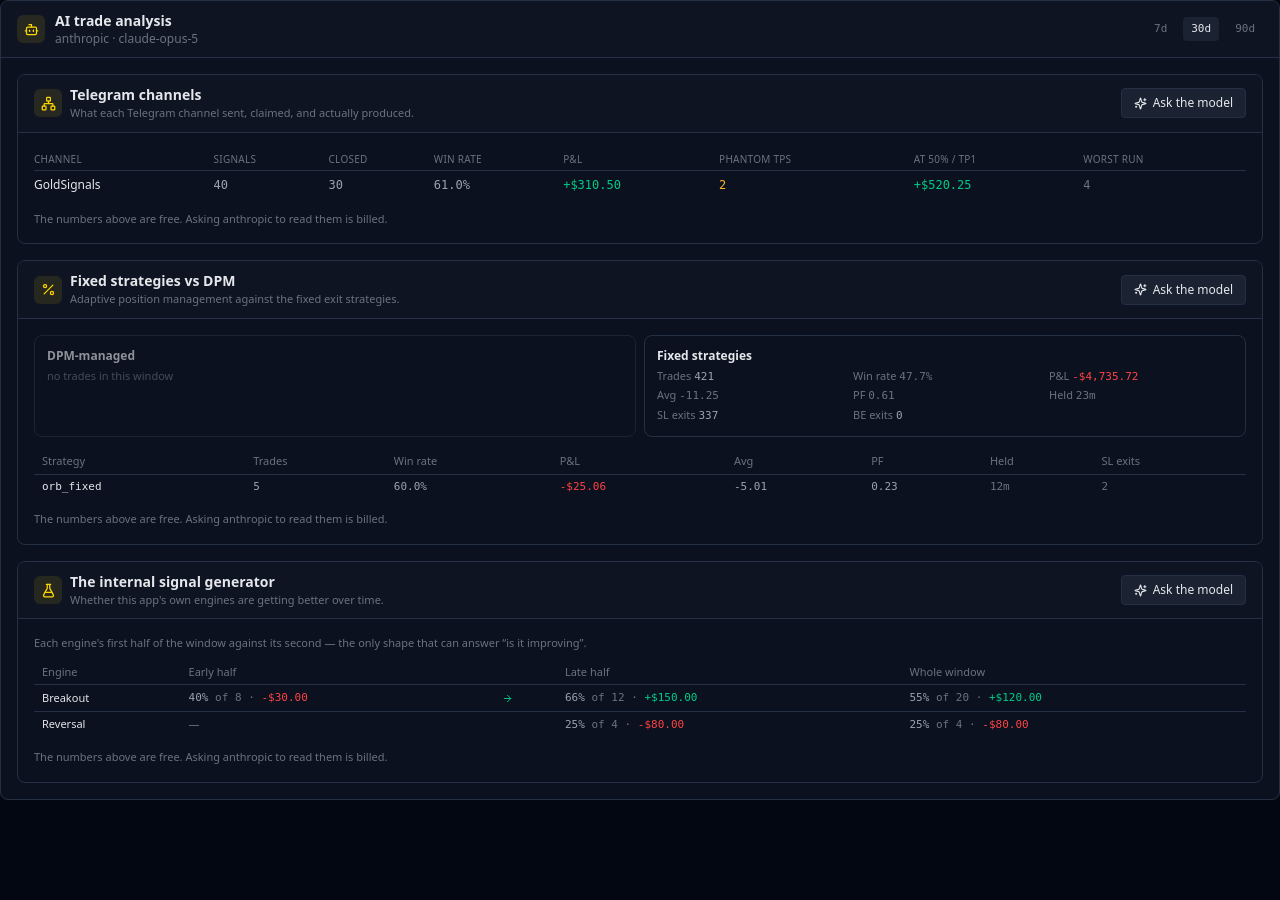
Scenario: what costs money › puts the answer under the section that was asked
Expected: the text "GoldSignals" is shown, [34,170,214,199]
Click the button "Ask the model" in the row of "Fixed strategies vs DPM" at x=1183, y=290, box [1121,275,1246,305]
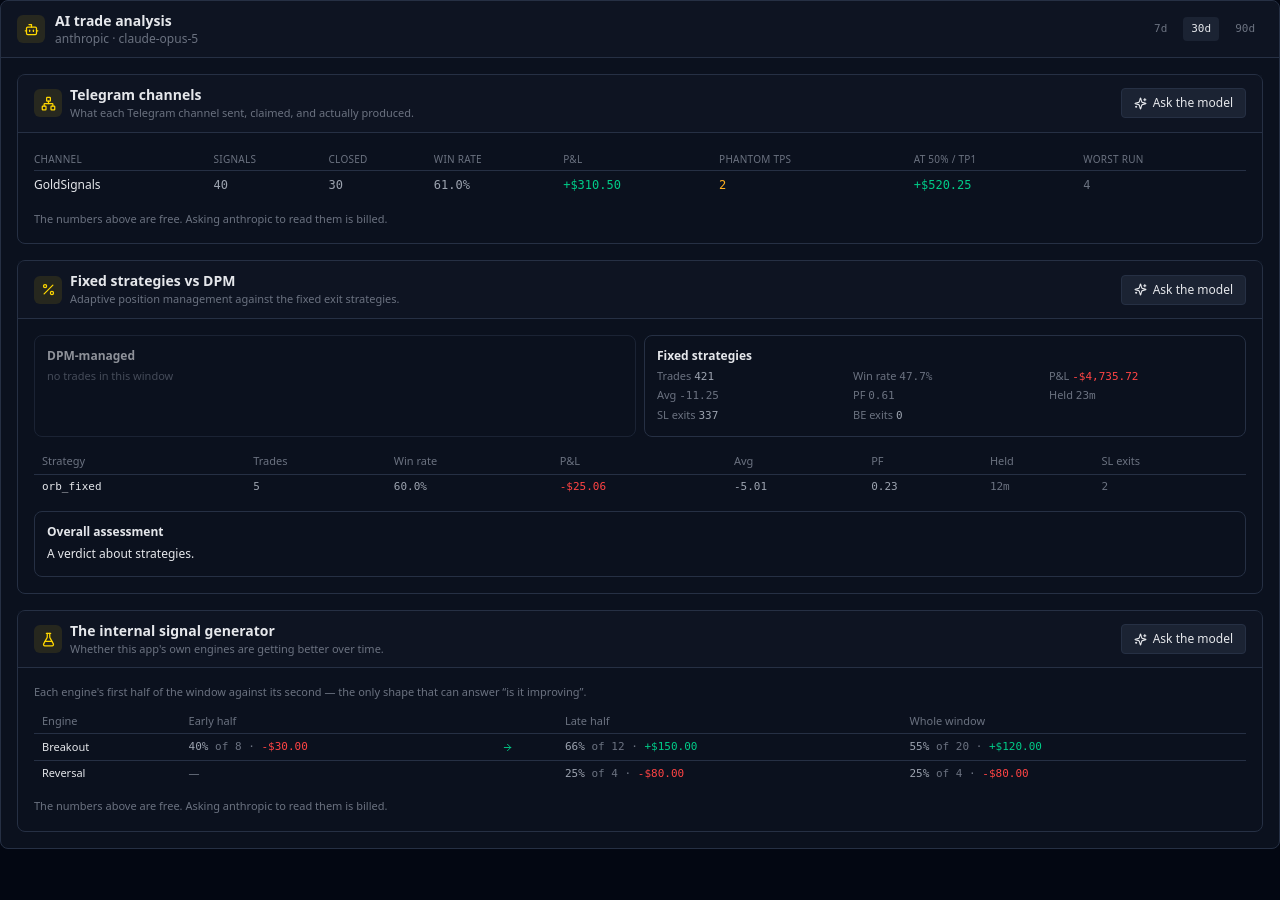
Result: the element with test id "ai-answer" is shown at [34,511,1246,577]
